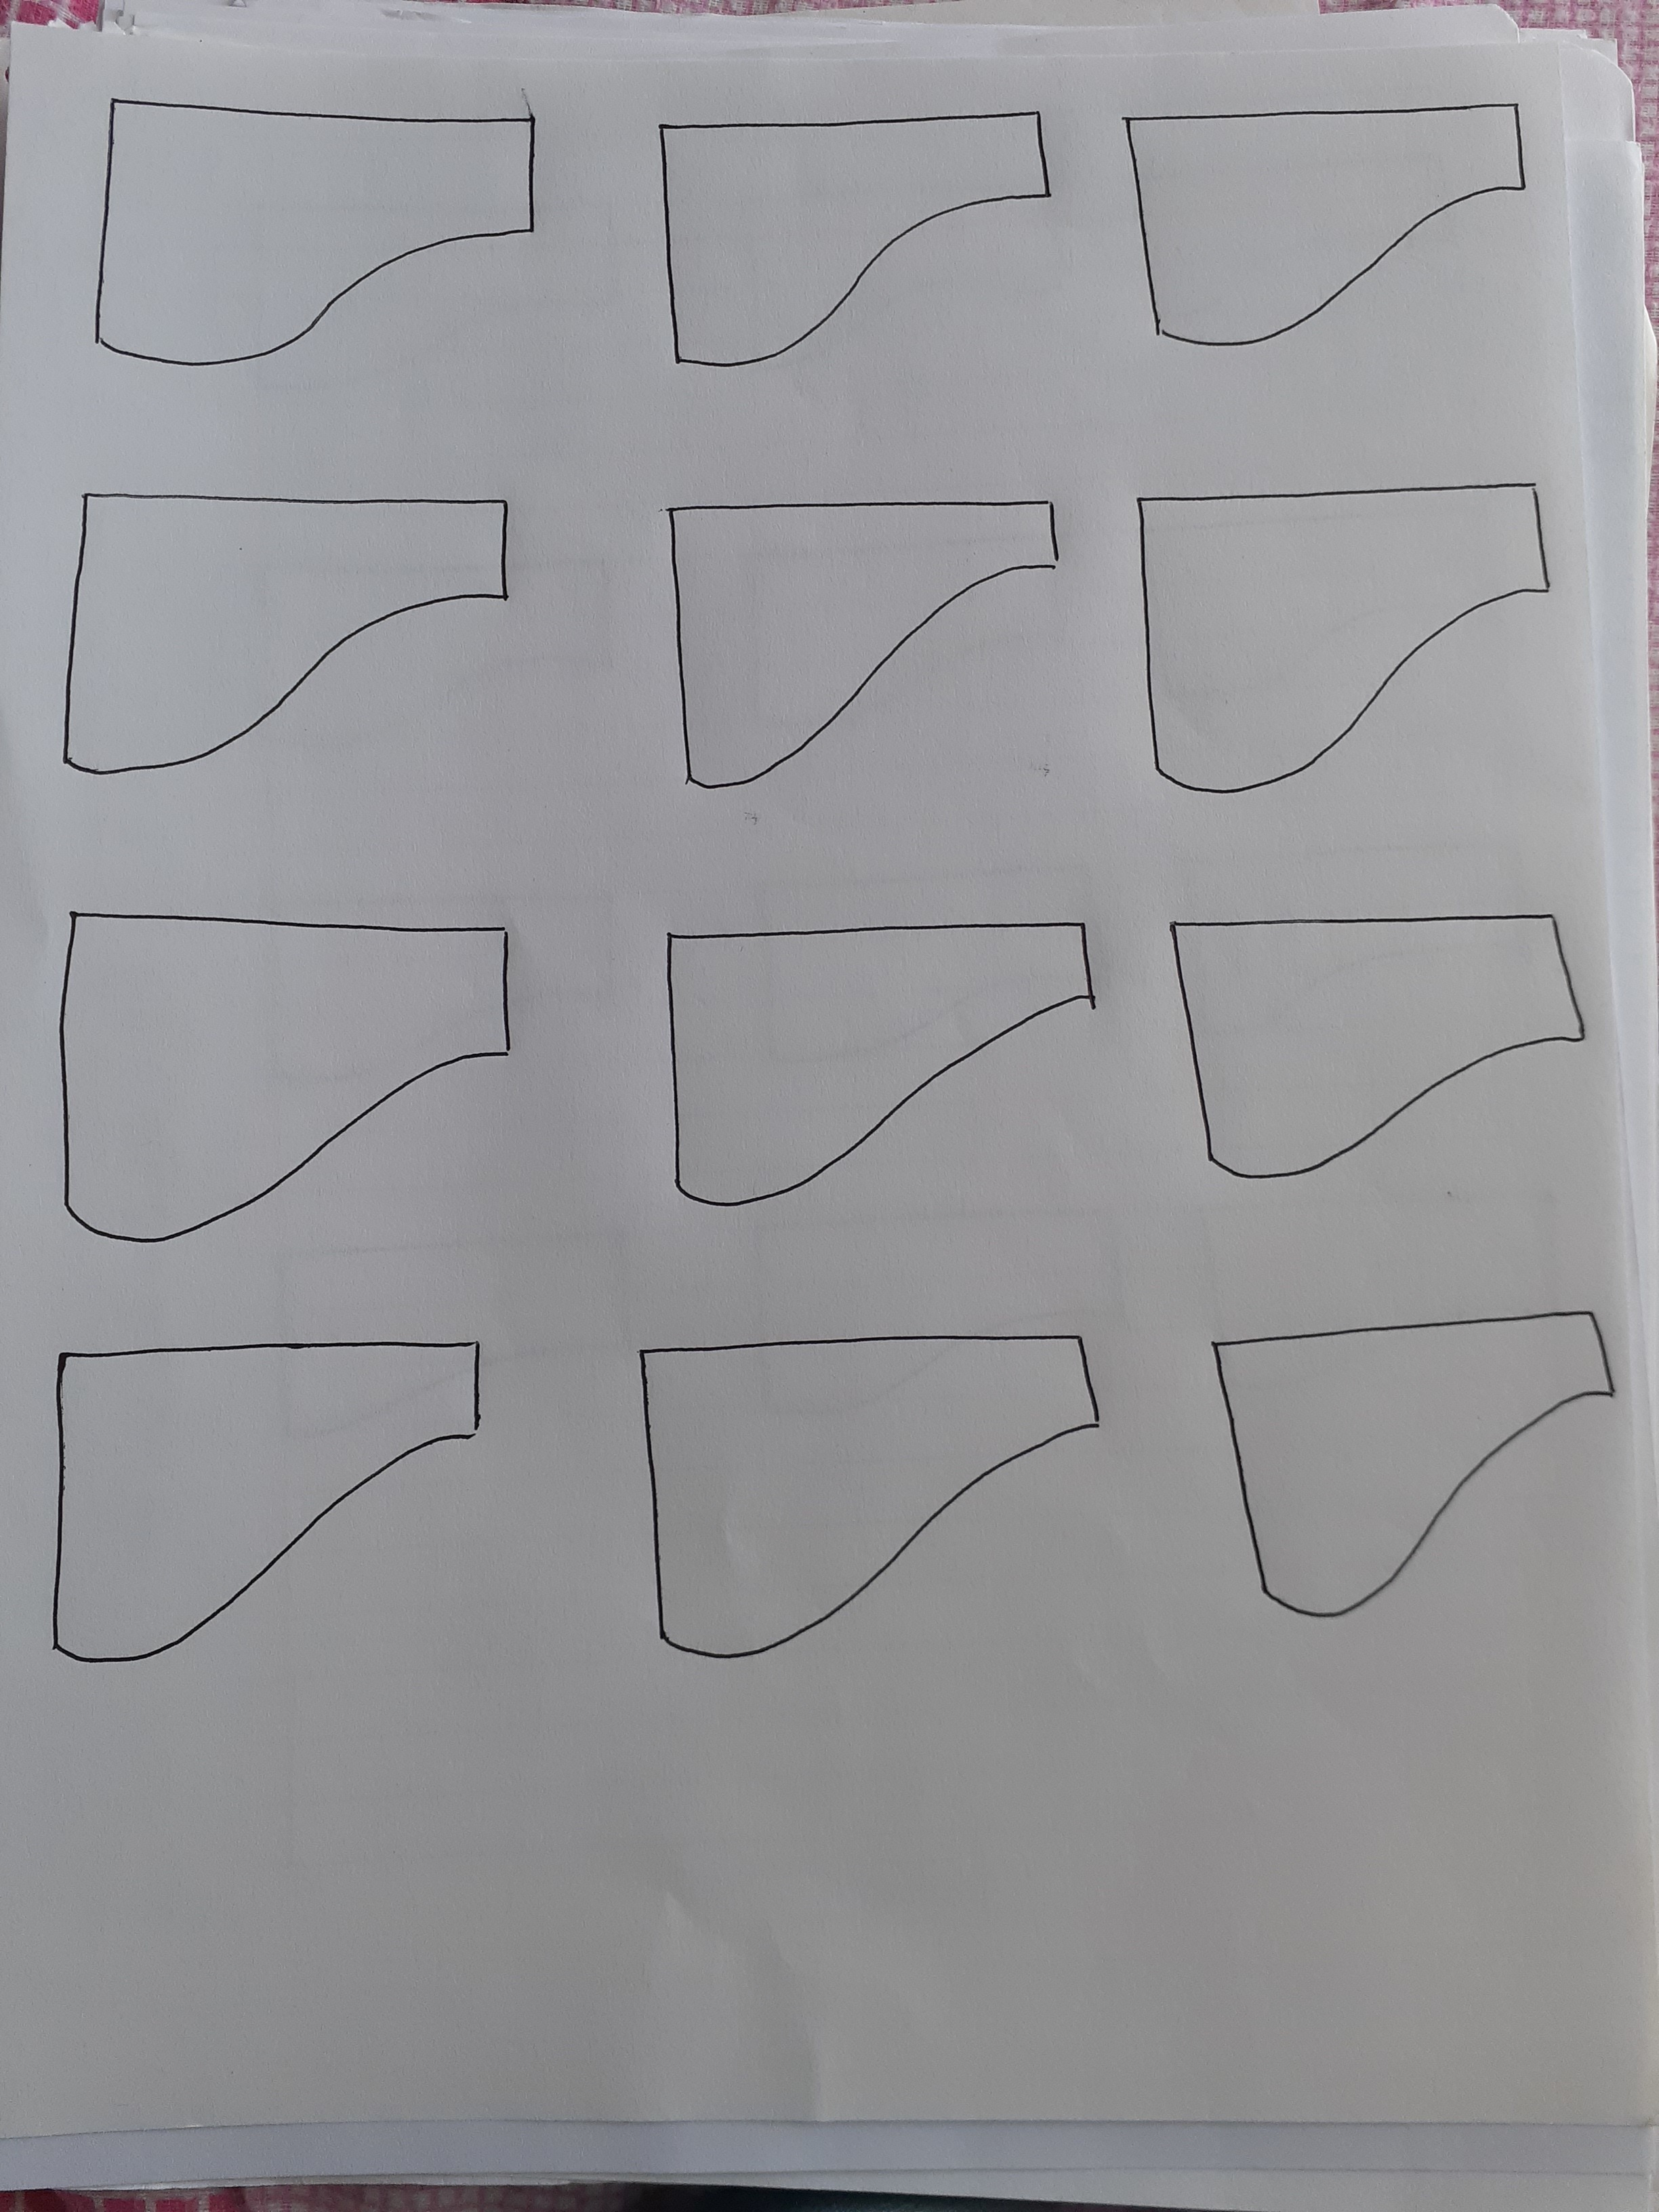print: (610, 1313, 1122, 1733), (28, 866, 530, 1261), (52, 1324, 519, 1676), (78, 56, 559, 397), (49, 458, 540, 791), (631, 906, 1126, 1235), (1190, 1306, 1624, 1651), (1119, 479, 1567, 801), (641, 486, 1082, 801), (645, 89, 1068, 401), (1155, 906, 1596, 1195), (1112, 89, 1542, 364)
